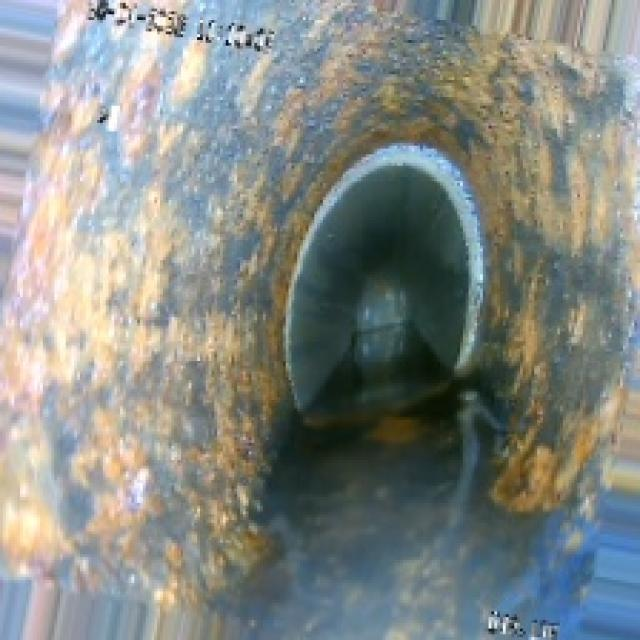encrustation: (63, 63, 603, 463)
